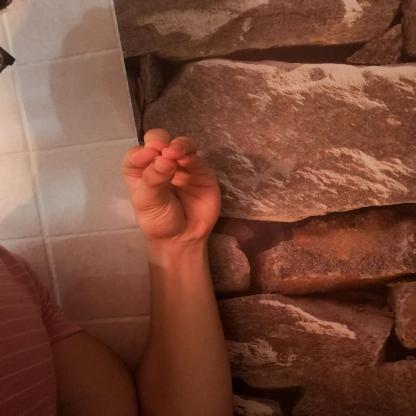HA: (101, 117, 247, 254)
